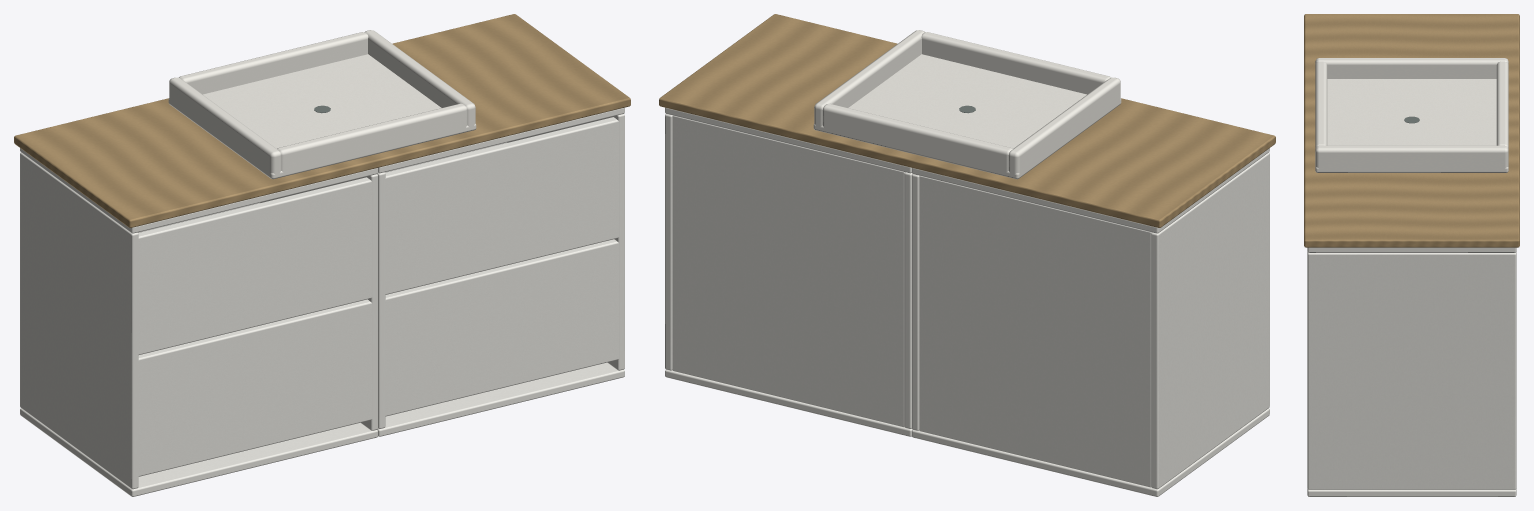
Rendered from havback-mobile.glb.
3 views of the same model, side by side, from view 1: azimuth 30°, elevation 25°; view 2: azimuth 150°, elevation 25°; view 3: azimuth 270°, elevation 25° (orthographic). The views are drawn at different scales.
Parts seen in each view (by area): view 1: HAVBÄCK / ORRSJÖN Vanity with countertop basin; view 2: HAVBÄCK / ORRSJÖN Vanity with countertop basin; view 3: HAVBÄCK / ORRSJÖN Vanity with countertop basin.
Boxes of the visible parts, x1,y1,x2,y2 form: HAVBÄCK / ORRSJÖN Vanity with countertop basin: (14, 14, 630, 496); HAVBÄCK / ORRSJÖN Vanity with countertop basin: (659, 14, 1275, 496); HAVBÄCK / ORRSJÖN Vanity with countertop basin: (1304, 14, 1519, 496).
Bounding box in the file's own units: 1.22 × 0.71 × 0.49.
Materials: 4 (3 with a texture image).
